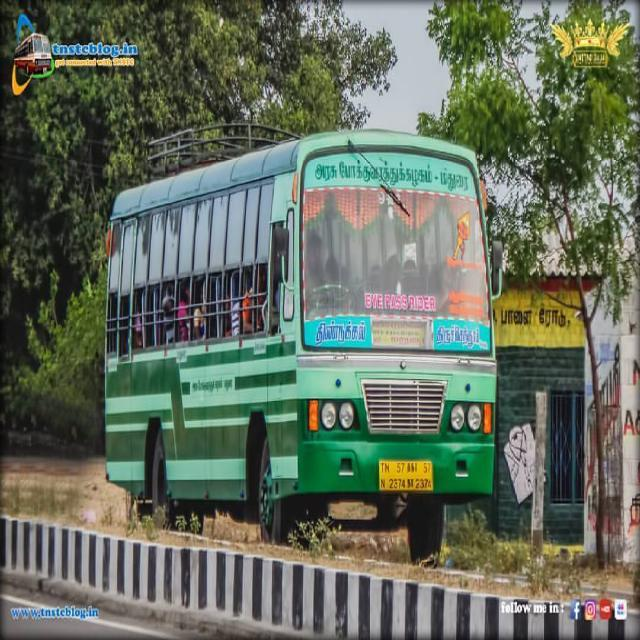Bus: (104, 123, 502, 554)
